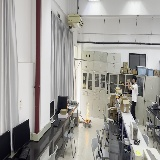fire: (85, 100, 90, 122)
